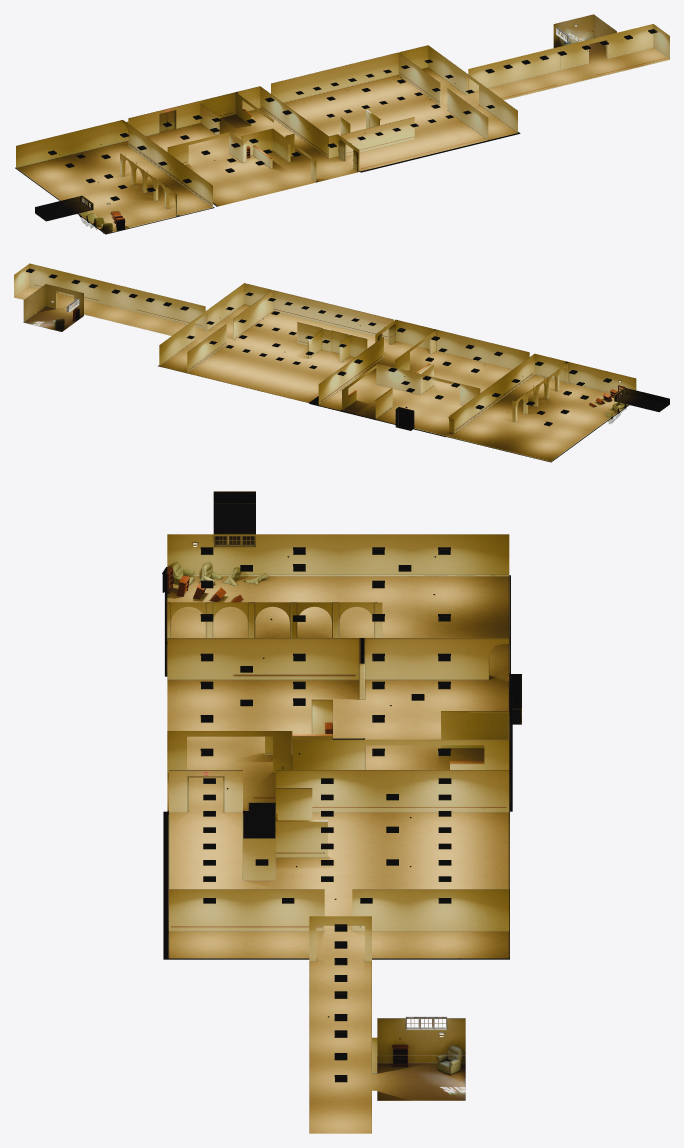
File: world3.glb
3 renders of one model, top to bottom at view 1: azimuth 30°, elevation 25°; view 2: azimuth 150°, elevation 25°; view 3: azimuth 270°, elevation 25°, orthographic. The views are drawn at different scales.
Visible parts, largest first — view 1: Object_19, Object_16, Object_21, Object_20, Object_25, Object_23, Object_14, Object_18, Object_4, Object_24, Object_27, Object_29 (+2 smaller); view 2: Object_19, Object_21, Object_16, Object_20, Object_25, Object_14, Object_23, Object_18, Object_4, Object_24, Object_27, Object_29 (+2 smaller); view 3: Object_19, Object_16, Object_20, Object_25, Object_21, Object_23, Object_18, Object_4, Object_14, Object_28, Object_22, Object_10 (+2 smaller).
Part boxes in pixels (bbox=[...]): Object_19: bbox=[283, 67, 520, 172]; Object_16: bbox=[271, 45, 517, 155]; Object_21: bbox=[15, 141, 214, 234]; Object_20: bbox=[126, 108, 358, 206]; Object_25: bbox=[125, 86, 359, 181]; Object_23: bbox=[16, 120, 212, 221]; Object_14: bbox=[468, 14, 669, 94]; Object_18: bbox=[468, 38, 668, 102]; Object_4: bbox=[48, 30, 656, 200]; Object_24: bbox=[16, 14, 669, 233]; Object_27: bbox=[129, 58, 665, 203]; Object_29: bbox=[159, 110, 357, 170]; Object_19: bbox=[158, 304, 389, 403]; Object_21: bbox=[446, 374, 629, 462]; Object_16: bbox=[159, 283, 393, 372]; Object_20: bbox=[309, 341, 512, 437]; Object_25: bbox=[318, 319, 529, 432]; Object_14: bbox=[14, 263, 205, 330]; Object_23: bbox=[449, 353, 669, 433]; Object_18: bbox=[15, 286, 205, 338]; Object_4: bbox=[26, 269, 611, 426]; Object_24: bbox=[14, 284, 628, 461]; Object_27: bbox=[34, 284, 532, 430]; Object_29: bbox=[379, 324, 414, 428]; Object_19: bbox=[163, 811, 509, 959]; Object_16: bbox=[169, 770, 509, 931]; Object_20: bbox=[167, 677, 512, 811]; Object_25: bbox=[167, 638, 521, 772]; Object_21: bbox=[164, 575, 510, 677]; Object_23: bbox=[167, 491, 509, 637]; Object_18: bbox=[309, 959, 465, 1133]; Object_4: bbox=[200, 549, 451, 1082]; Object_14: bbox=[309, 916, 465, 1072]; Object_28: bbox=[171, 562, 463, 1075]; Object_22: bbox=[240, 565, 424, 1060]; Object_10: bbox=[162, 567, 408, 1067].
Bounding box in the file's own units: 81.53 × 4.14 × 20.61.
Materials: 28 (27 with a texture image).
